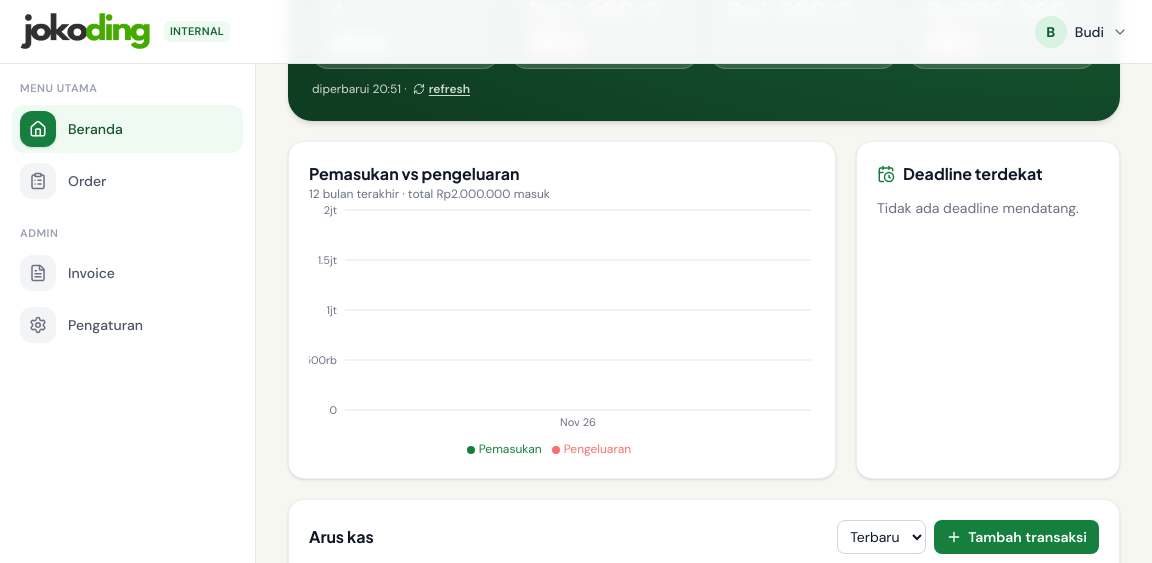
Test: Admin Beranda › income type only offers lainnya; amount must be > 0
(page scrolled)
Click the button "Tambah transaksi". click: (1017,537)
box: [934,520,1099,554]
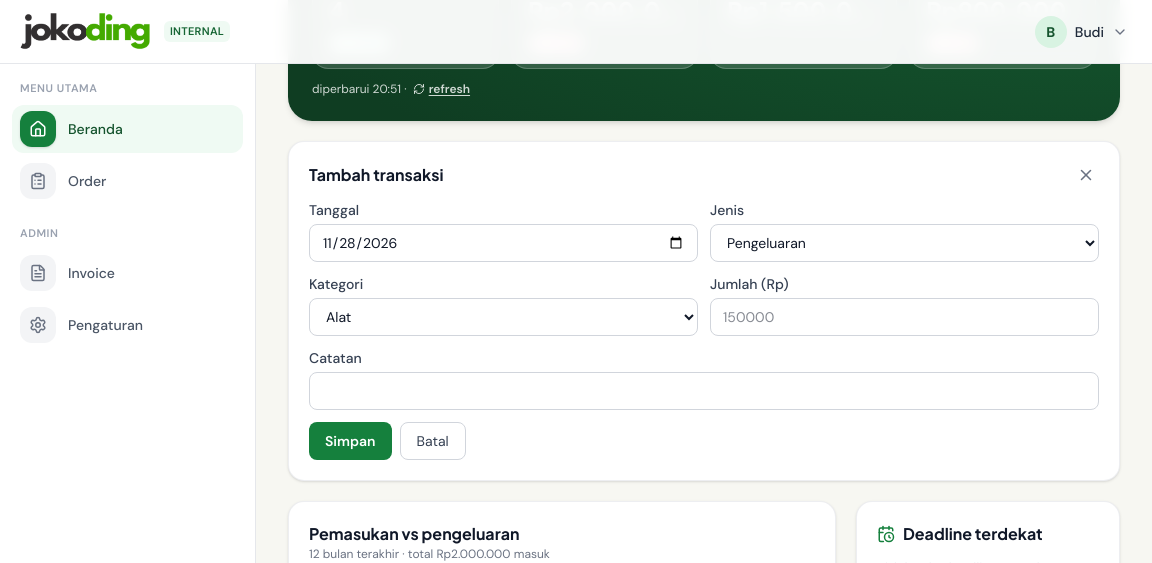
Select "Pemasukan" in the dropdown labelled "Jenis". click: (904,243)
box: [710,224,1099,262]
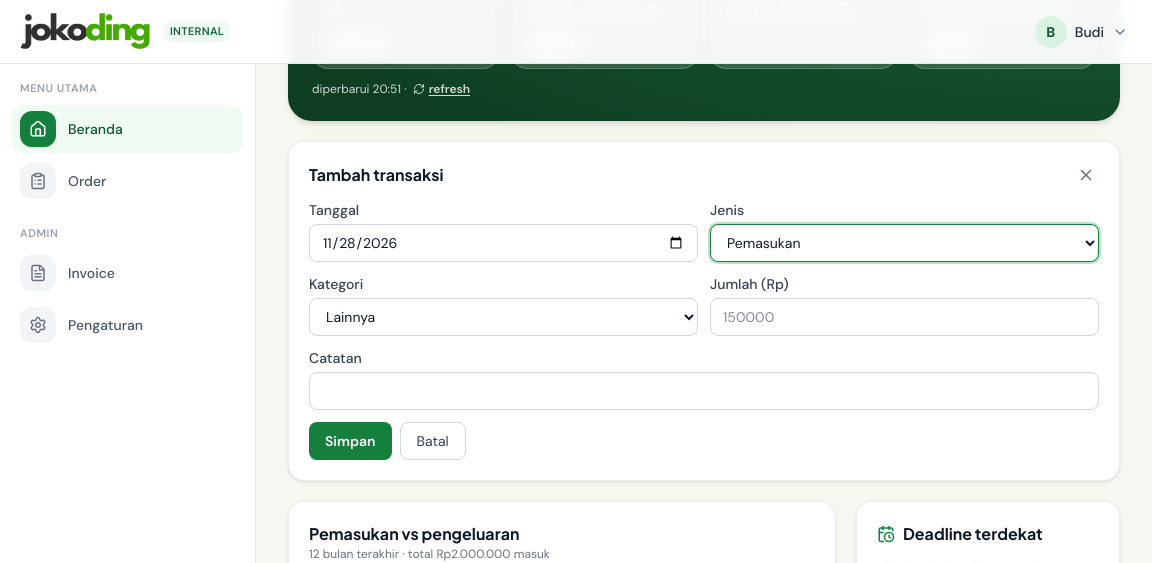
Type "0" into the field labelled "Jumlah (Rp)". click: (904,317)
box: [710,298,1099,336]
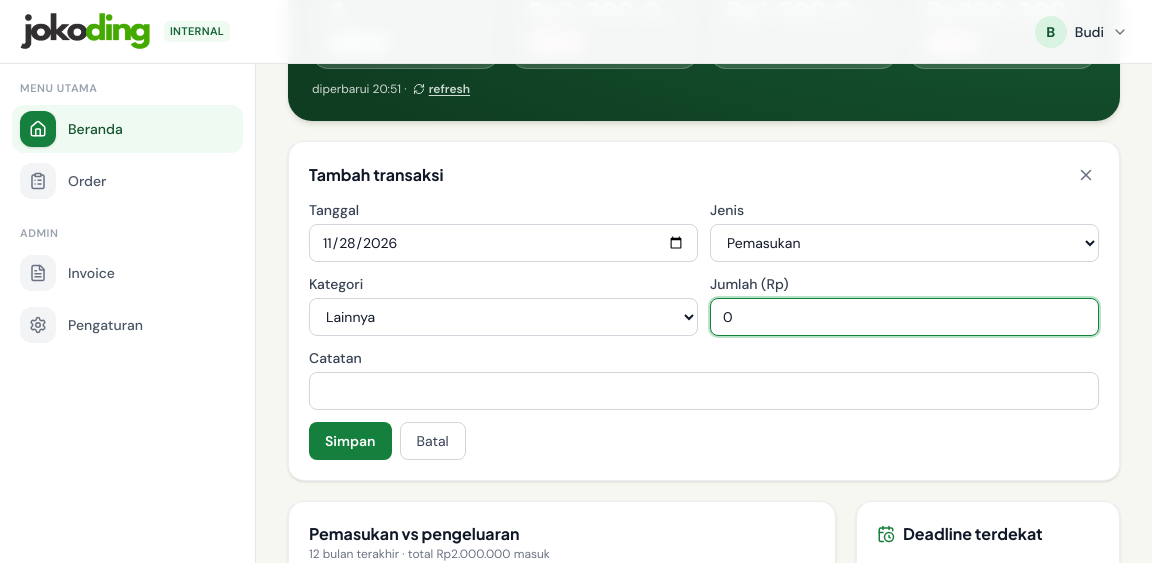
Click the button "Simpan". click: (350,441)
box: [309,422,392,460]
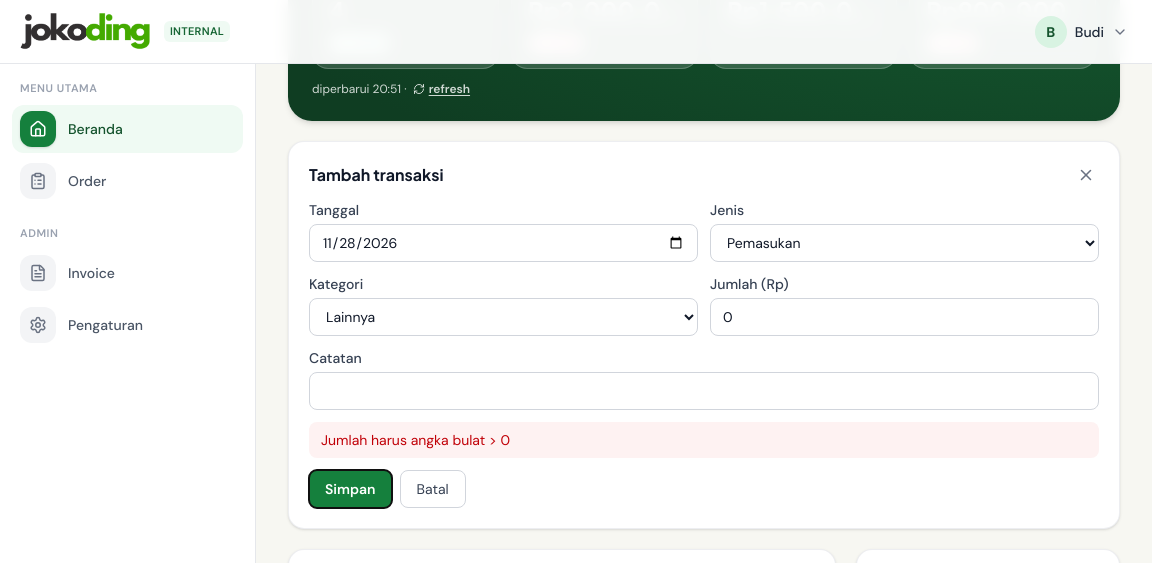
Expected: the message shows "> 0", [321,431,510,449]
